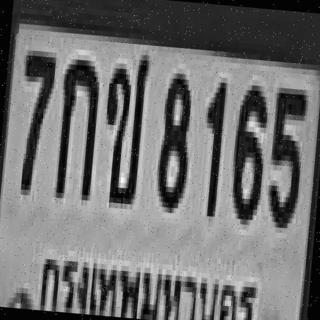A01: (52, 53, 100, 195)
A10: (97, 47, 148, 199)
N01: (197, 74, 225, 214)
N05: (264, 82, 306, 224)
N06: (226, 79, 268, 220)
N07: (13, 44, 55, 191)
N08: (154, 67, 194, 208)
P04: (36, 240, 260, 320)
